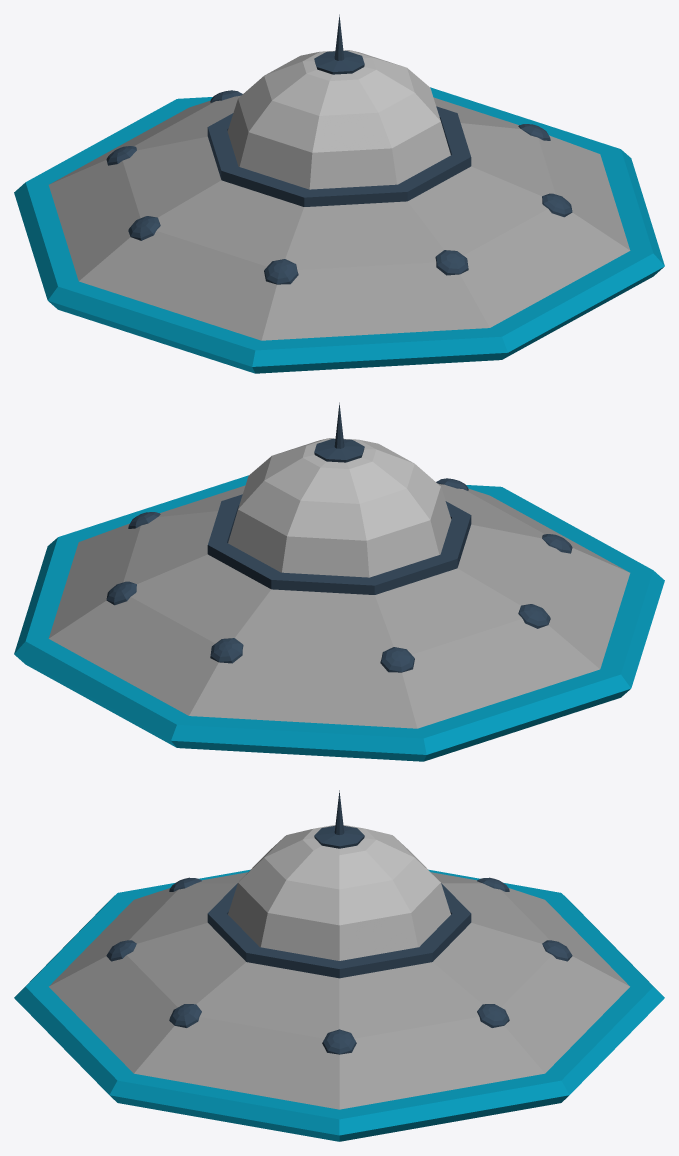
The model's file is saucer.glb.
The picture shows the model from 3 angles, top to bottom: view 1: azimuth 30°, elevation 25°; view 2: azimuth 150°, elevation 25°; view 3: azimuth 270°, elevation 25°; orthographic projection. The views are drawn at different scales.
Parts seen in each view (by area): view 1: Node; view 2: Node; view 3: Node.
Boxes of the visible parts, <box> form: Node: <box>14,14,664,373</box>; Node: <box>14,402,664,761</box>; Node: <box>14,790,664,1141</box>.
Bounding box in the file's own units: 2.24 × 1.04 × 2.24.
